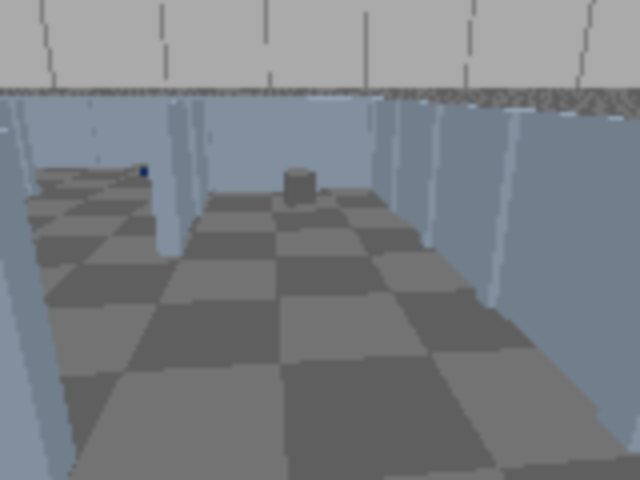obstacle: (283, 169, 314, 206)
